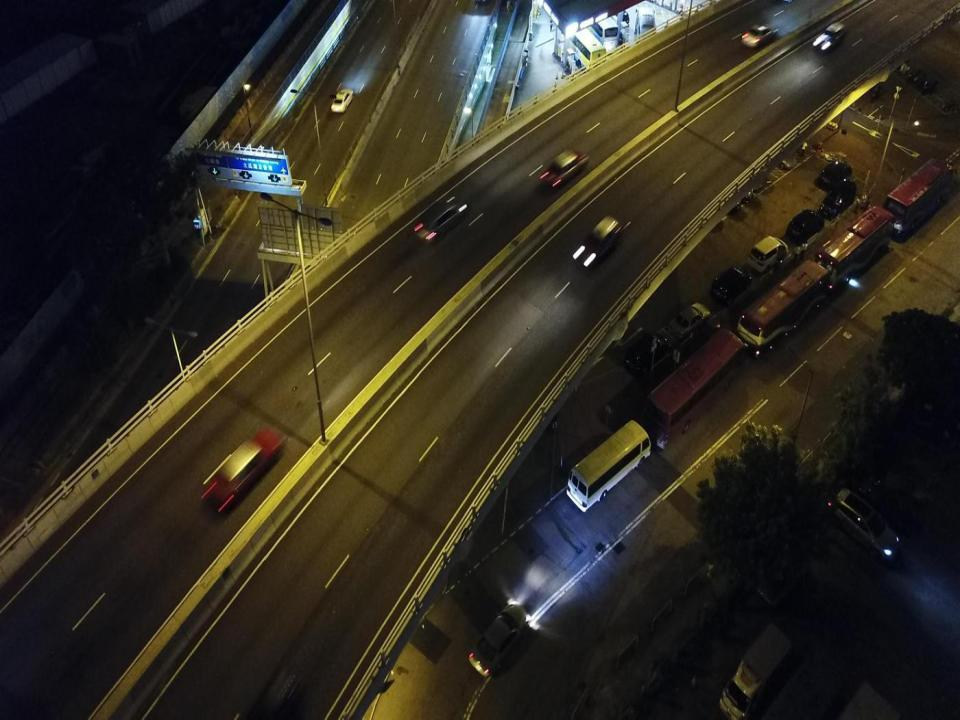bus: (642, 326, 745, 450), (734, 259, 829, 360), (566, 418, 651, 512), (814, 205, 894, 293), (883, 158, 953, 239), (558, 11, 608, 75), (571, 0, 619, 57), (635, 4, 658, 68)
car: (205, 424, 285, 515), (468, 603, 532, 677), (415, 195, 467, 243), (576, 214, 620, 268), (540, 147, 589, 190), (624, 330, 668, 376), (670, 302, 712, 340), (812, 21, 846, 54), (723, 163, 763, 191), (741, 20, 778, 49), (717, 176, 754, 204), (708, 184, 742, 214), (761, 142, 796, 169), (331, 89, 353, 115)
truck: (718, 622, 794, 718), (758, 648, 848, 719)
van: (830, 483, 902, 564), (712, 266, 752, 304), (748, 236, 788, 273), (821, 178, 856, 219), (786, 208, 825, 243), (820, 160, 852, 190)
